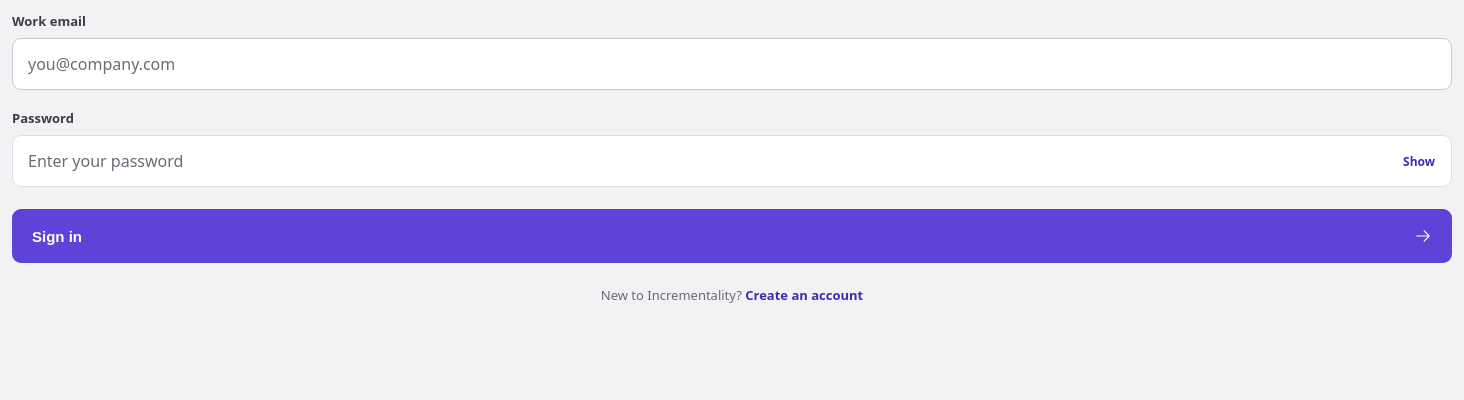
AuthForm › shows a safe message when credentials are rejected
The width and height of the screenshot is (1464, 400).
Step 1. Type "owner@example.com" into the field labelled "Work email" → (732, 64), box [12,38,1452,90]
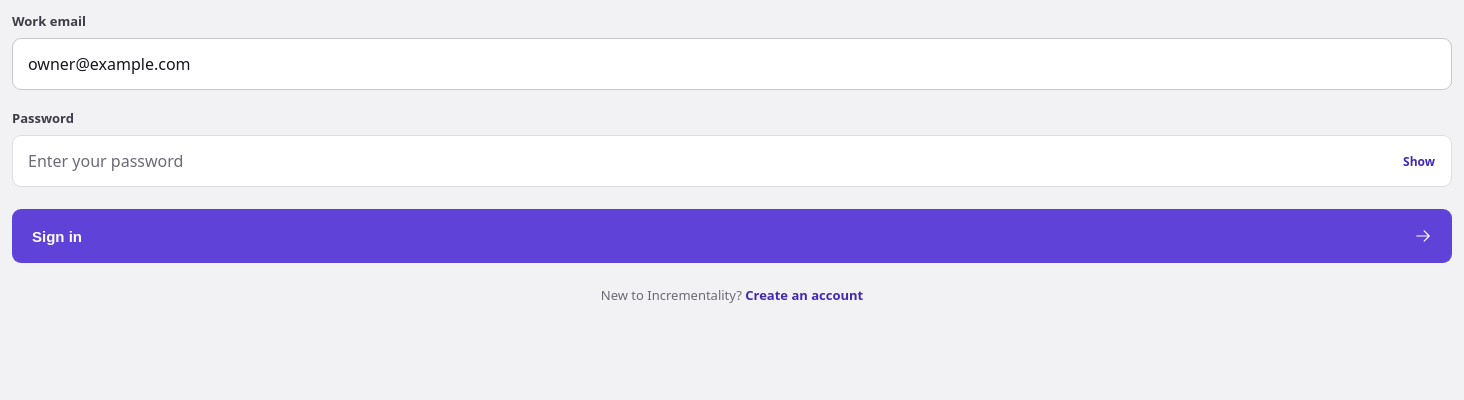
Step 2. Type "wrong-password" into the password field labelled "Password" → (732, 161), box [12,135,1452,187]
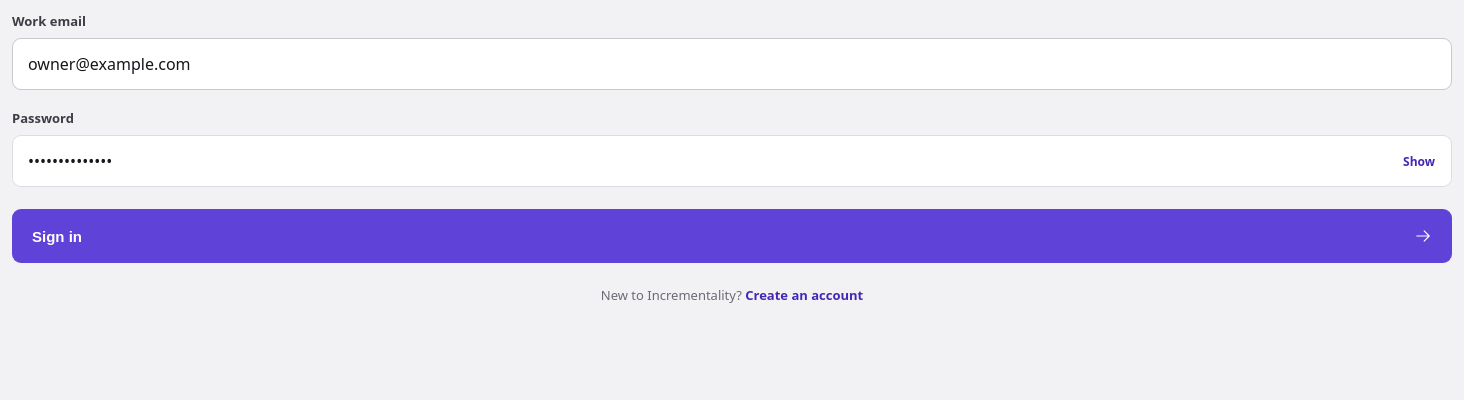
Step 3. Click the button "Sign in" → (57, 236), box [12,209,1452,263]
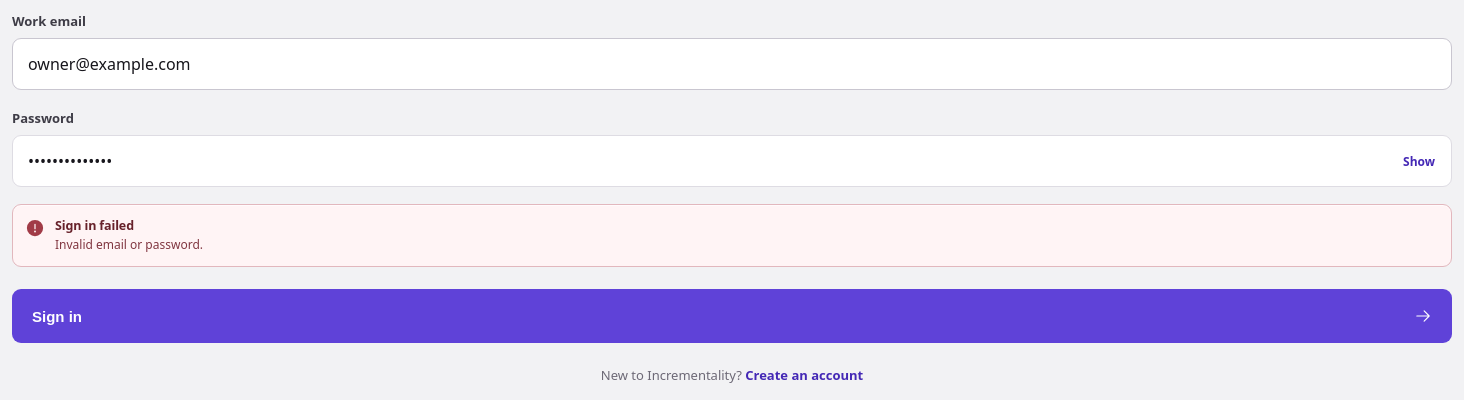
Expected: the message shows "Invalid email or password.", [55,236,203,253]
